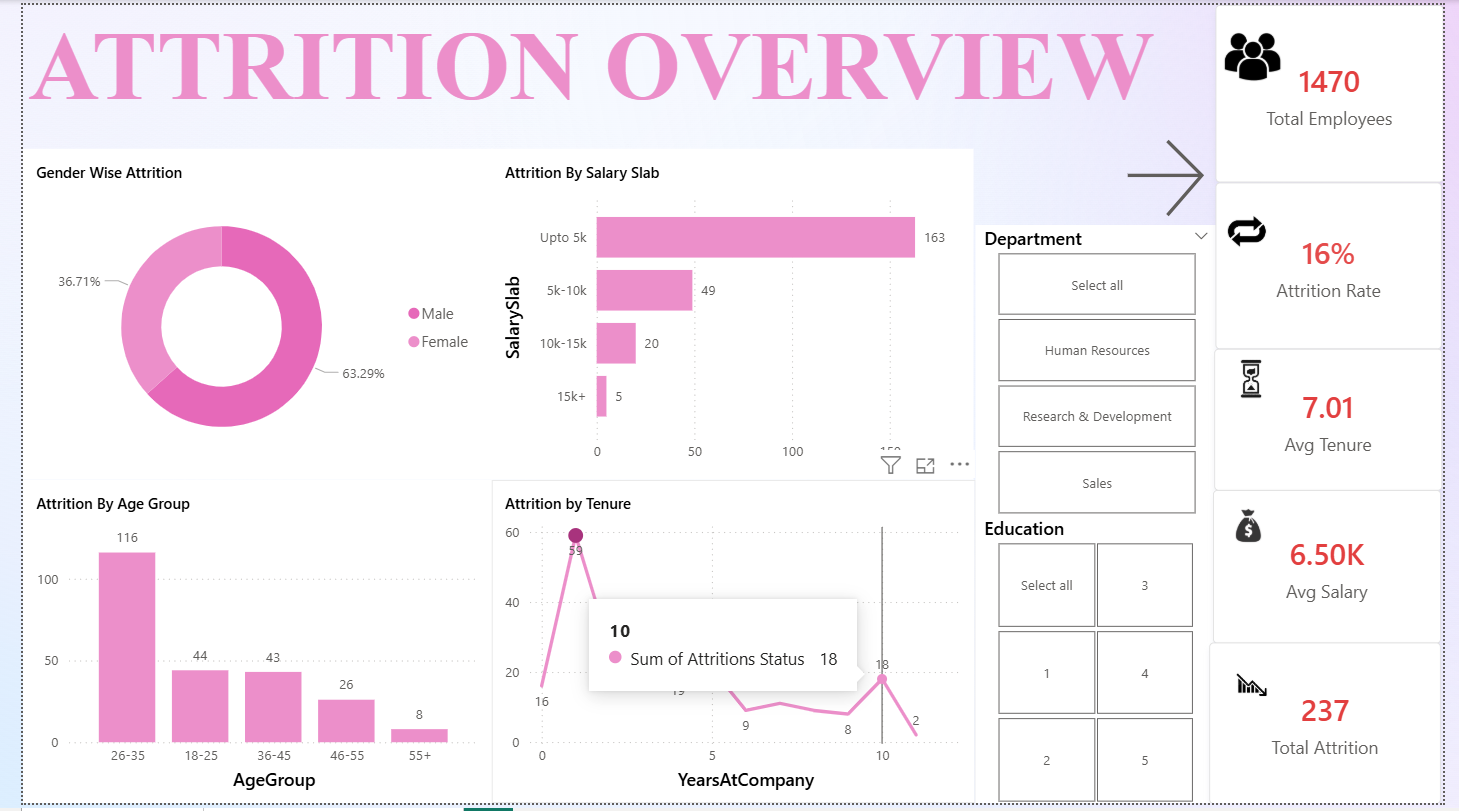

The page's visual inventory and layout, read from the dashboard file:
{"tool":"powerbi","page":{"name":"Atterition overview","canvas":[1280,720],"ordinal":0},"visuals":[{"type":"donutChart","title":"Gender Wise Attrition","fields":{"Y":["Sum(HR_Analytics.Attritions Status)"],"Category":["HR_Analytics.Gender"]},"box":[0,129.6,423.1,298.4],"z":0},{"type":"barChart","title":"Attrition By Salary Slab","fields":{"Category":["HR_Analytics.SalarySlab"],"Y":["Sum(HR_Analytics.Attritions Status)"]},"box":[423.1,129.6,434.1,298.4],"z":1000},{"type":"clusteredColumnChart","title":"Attrition By Age Group","fields":{"Category":["HR_Analytics.AgeGroup"],"Y":["Sum(HR_Analytics.Attritions Status)"]},"box":[0,428,423.1,292.3],"z":2000},{"type":"lineChart","title":"Attrition by Tenure","fields":{"Category":["HR_Analytics.YearsAtCompany"],"Y":["Sum(HR_Analytics.Attritions Status)"]},"box":[423.1,428,435.3,292.3],"z":3000},{"type":"slicer","fields":{"Values":["HR_Analytics.Department"]},"box":[858.4,198.1,217.7,261.7],"z":4000},{"type":"card","fields":{"Values":["CountNonNull(HR_Analytics.EmpID)"]},"box":[1074.9,0,205.5,160],"z":5000,"group":"g1"},{"type":"slicer","fields":{"Values":["HR_Analytics.Education"]},"box":[858.4,459.8,215.2,260.5],"z":5000},{"type":"card","fields":{"Values":["Sum(HR_Analytics.Attritions Status)"]},"box":[1070,574.7,209.1,145.5],"z":5000,"group":"g6"},{"type":"textbox","box":[0,0,1091.5,129.6],"z":6000},{"type":"card","fields":{"Values":["HR_Analytics.attrition rate"]},"box":[1074.9,160.2,204.2,150.4],"z":6000,"group":"g2"},{"type":"actionButton","box":[986.8,113.7,86.8,84.4],"z":7000},{"type":"card","fields":{"Values":["Avg(HR_Analytics.YearsAtCompany)"]},"box":[1073.8,310.1,205.5,128],"z":7000,"group":"g3"},{"type":"group","id":"g1","title":"Group 1","box":[1074.9,0,205.4,160.2],"z":8000},{"type":"card","fields":{"Values":["Avg(HR_Analytics.MonthlyIncome)"]},"box":[1073.4,437.8,205.7,138.2],"z":8000,"group":"g5"},{"type":"group","id":"g2","title":"Group 2","box":[1074.9,160.2,204.2,150.4],"z":9000},{"type":"image","box":[1077.4,13.3,62.8,66.7],"z":9001,"group":"g1"},{"type":"image","box":[1071.7,577.4,74.3,66.6],"z":9001,"group":"g6"},{"type":"image","box":[1077.9,168.8,65.6,59.1],"z":9003,"group":"g2"},{"type":"image","box":[1080,305.2,55.4,62.8],"z":9005,"group":"g3"},{"type":"group","id":"g3","title":"Group 4","box":[1073.8,305.2,205.5,132.9],"z":9007,"group":"g4"},{"type":"image","box":[1070,438.9,69.8,63.2],"z":9007,"group":"g5"},{"type":"group","id":"g4","title":"Group 3","box":[1073.8,305.2,205.5,132.9],"z":10000},{"type":"group","id":"g5","title":"Group 5","box":[1070,437.8,209.1,138.2],"z":11000},{"type":"group","id":"g6","title":"Group 6","box":[1070,574.7,209.1,145.5],"z":12000}]}

Visuals, with their boxes in screenshot pixels (x1, y1, x2, y2), scaled from the page's 1280x720 canvas onto the 1459x811 screenshot:
"Gender Wise Attrition" donutChart: region(0, 146, 482, 482)
"Attrition By Salary Slab" barChart: region(482, 146, 977, 482)
"Attrition By Age Group" clusteredColumnChart: region(0, 482, 482, 810)
"Attrition by Tenure" lineChart: region(482, 482, 978, 810)
slicer - HR_Analytics.Department: region(978, 223, 1227, 518)
card - CountNonNull(HR_Analytics.EmpID): region(1225, 0, 1458, 180)
slicer - HR_Analytics.Education: region(978, 518, 1224, 810)
card - Sum(HR_Analytics.Attritions Status): region(1220, 647, 1458, 810)
textbox: region(0, 0, 1244, 146)
card - HR_Analytics.attrition rate: region(1225, 180, 1458, 350)
actionButton: region(1125, 128, 1224, 223)
card - Avg(HR_Analytics.YearsAtCompany): region(1224, 349, 1458, 493)
"Group 1" group: region(1225, 0, 1458, 180)
card - Avg(HR_Analytics.MonthlyIncome): region(1224, 493, 1458, 649)
"Group 2" group: region(1225, 180, 1458, 350)
image: region(1228, 15, 1300, 90)
image: region(1222, 650, 1306, 725)
image: region(1229, 190, 1303, 257)
image: region(1231, 344, 1294, 415)
"Group 4" group: region(1224, 344, 1458, 493)
image: region(1220, 494, 1299, 566)
"Group 3" group: region(1224, 344, 1458, 493)
"Group 5" group: region(1220, 493, 1458, 649)
"Group 6" group: region(1220, 647, 1458, 810)
